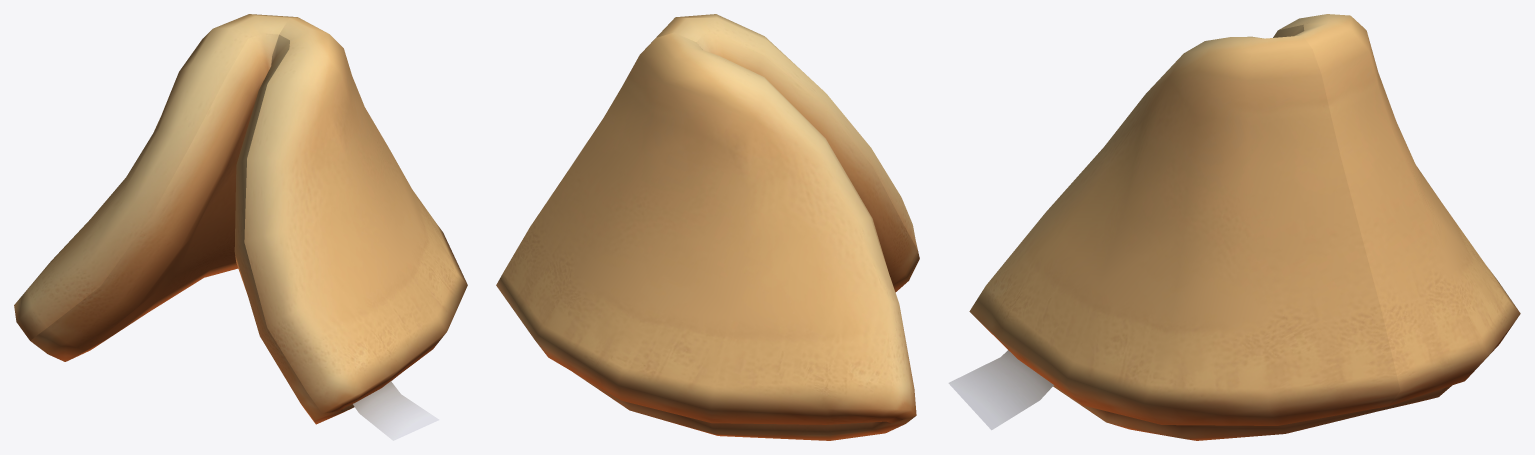
File: Fortune Cookie.fbx
3 renders of one model, left to right at view 1: azimuth 30°, elevation 25°; view 2: azimuth 150°, elevation 25°; view 3: azimuth 270°, elevation 25°, orthographic. The views are drawn at different scales.
Visible parts, largest first — view 1: FortuneCookie_1; view 2: FortuneCookie_1; view 3: FortuneCookie_1.
Boxes of the visible parts, bbox=[...] form: FortuneCookie_1: bbox=[14, 14, 467, 440]; FortuneCookie_1: bbox=[496, 14, 919, 440]; FortuneCookie_1: bbox=[948, 14, 1520, 440].
Size of the model in its own units: 15.76 by 12.29 by 16.7.
Materials: 1 (1 with a texture image).
